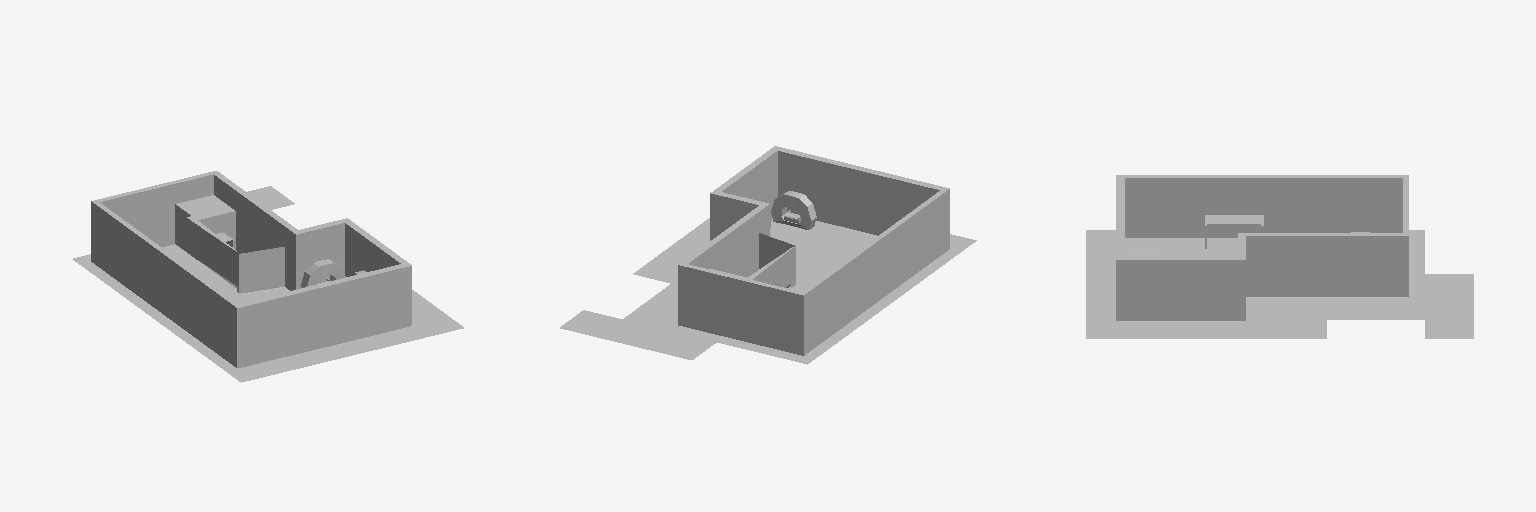
The model's file is basement.obj.
The picture shows the model from 3 angles: view 1: azimuth 30°, elevation 25°; view 2: azimuth 150°, elevation 25°; view 3: azimuth 270°, elevation 25°; orthographic projection.
Parts seen in each view (by area): view 1: Cube.001, Cube, Cube.009, Cube.002, Cube.003; view 2: Cube.001, Cube, Cube.009, Cube.007; view 3: Cube.001, Cube, Cube.010.
Boxes of the visible parts, <box> form: Cube.001: <box>91,171,411,368</box>; Cube: <box>73,186,463,382</box>; Cube.009: <box>187,216,284,293</box>; Cube.002: <box>175,195,235,259</box>; Cube.003: <box>301,259,345,287</box>; Cube.001: <box>678,146,949,355</box>; Cube: <box>560,218,976,364</box>; Cube.009: <box>747,233,795,287</box>; Cube.007: <box>771,191,816,229</box>; Cube.001: <box>1116,175,1408,320</box>; Cube: <box>1086,230,1473,338</box>; Cube.010: <box>1205,215,1263,248</box>.
Bounding box in the file's own units: 79.58 × 21.8 × 119.